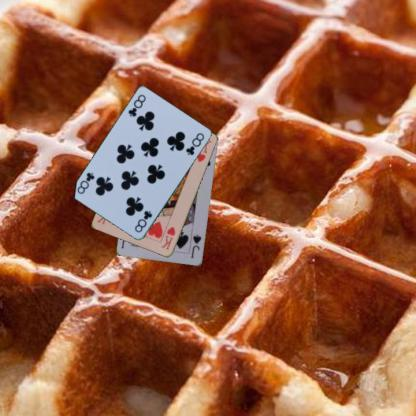8c: (132, 208, 154, 234), (126, 92, 148, 118)
Js: (186, 228, 202, 260)
Kh: (158, 224, 177, 252)
